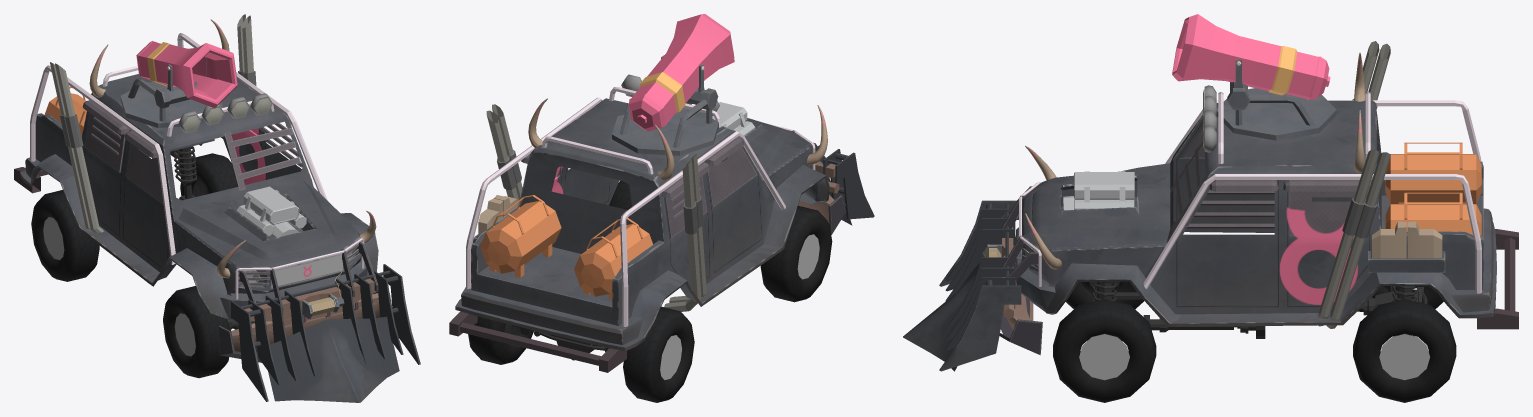
The model's file is Boss01_Car.fbx.
The picture shows the model from 3 angles, left to right: view 1: azimuth 30°, elevation 25°; view 2: azimuth 150°, elevation 25°; view 3: azimuth 270°, elevation 25°; orthographic projection. The views are drawn at different scales.
Visible parts, largest first — view 1: Boss01_Car; view 2: Boss01_Car; view 3: Boss01_Car.
Boxes of the visible parts, x1,y1,x2,y2 form: Boss01_Car: [14, 14, 420, 402]; Boss01_Car: [449, 14, 874, 402]; Boss01_Car: [903, 14, 1518, 402].
Size of the model in its own units: 44.92 by 63.23 by 107.
